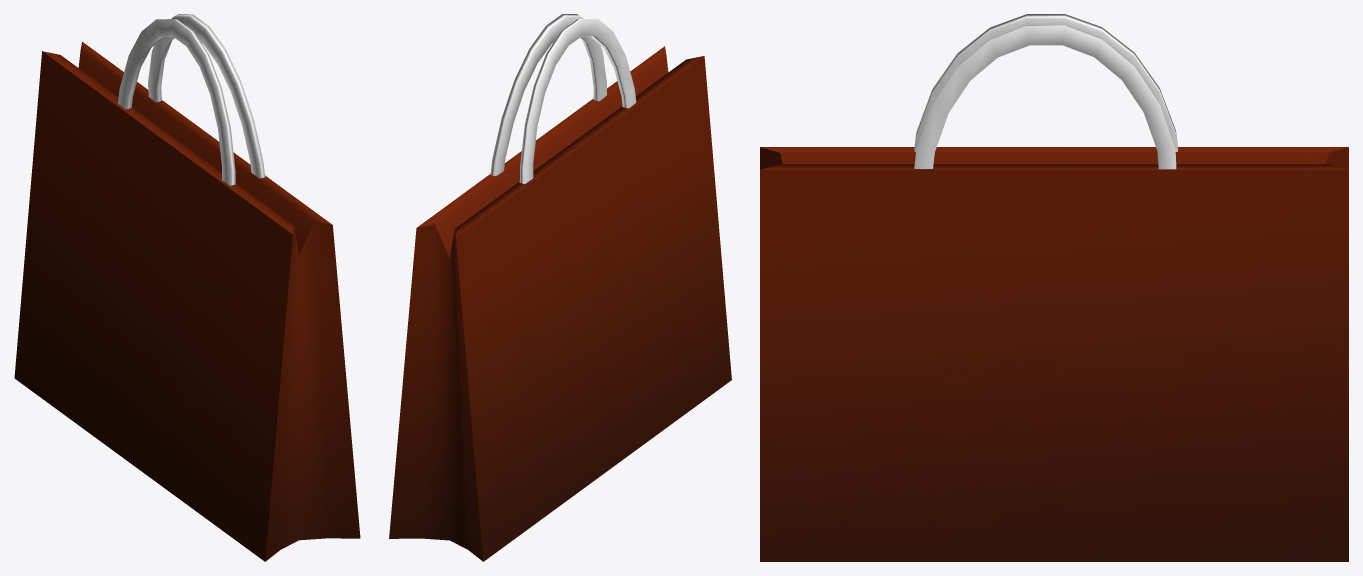
File: PRP_Bag_10.fbx
The picture shows the model from 3 angles, left to right: view 1: azimuth 30°, elevation 25°; view 2: azimuth 150°, elevation 25°; view 3: azimuth 270°, elevation 25°; orthographic projection. The views are drawn at different scales.
Parts seen in each view (by area): view 1: PRP_Bag_10; view 2: PRP_Bag_10; view 3: PRP_Bag_10.
Boxes of the visible parts, <box> form: PRP_Bag_10: <box>14,14,360,561</box>; PRP_Bag_10: <box>389,14,731,561</box>; PRP_Bag_10: <box>760,14,1348,561</box>.
Bounding box in the file's own units: 15.58 × 68.56 × 71.05.
